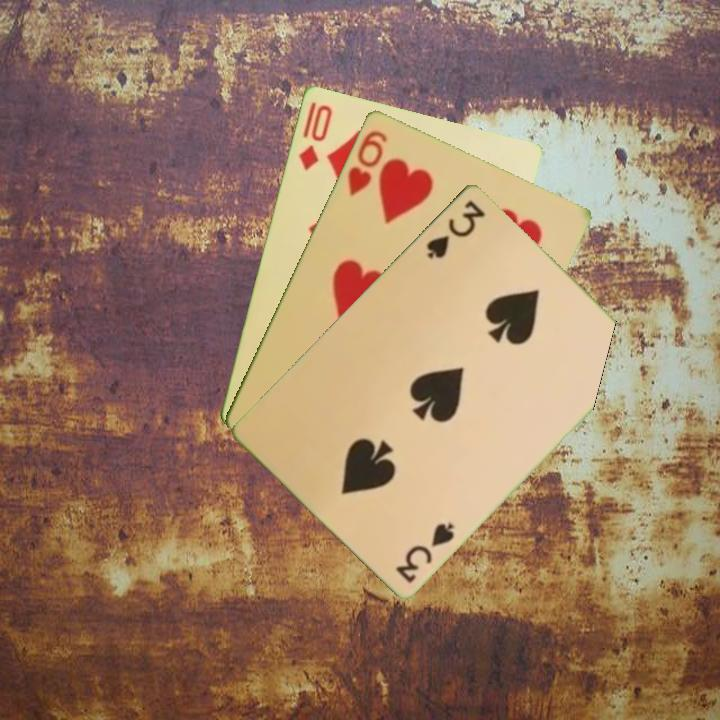10d: (295, 100, 335, 173)
3s: (422, 196, 489, 261), (392, 518, 457, 585)
6h: (343, 126, 390, 199)
